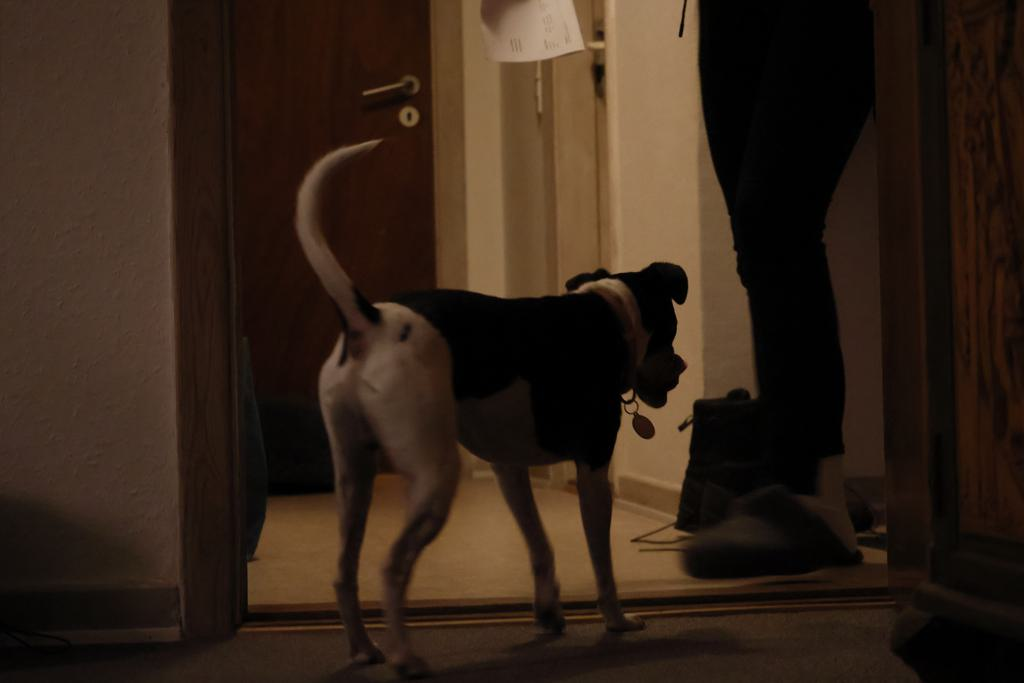Dog: (283, 133, 703, 678)
Humanoid: (653, 0, 906, 592)
